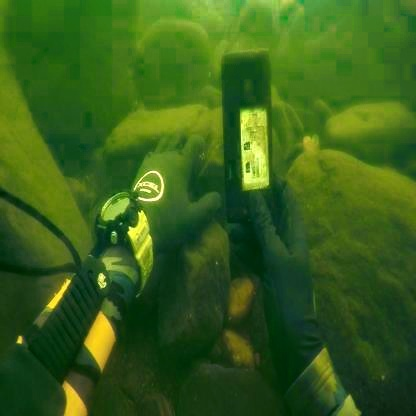cellphone: (222, 48, 274, 225)
electronics: (92, 186, 154, 301)
